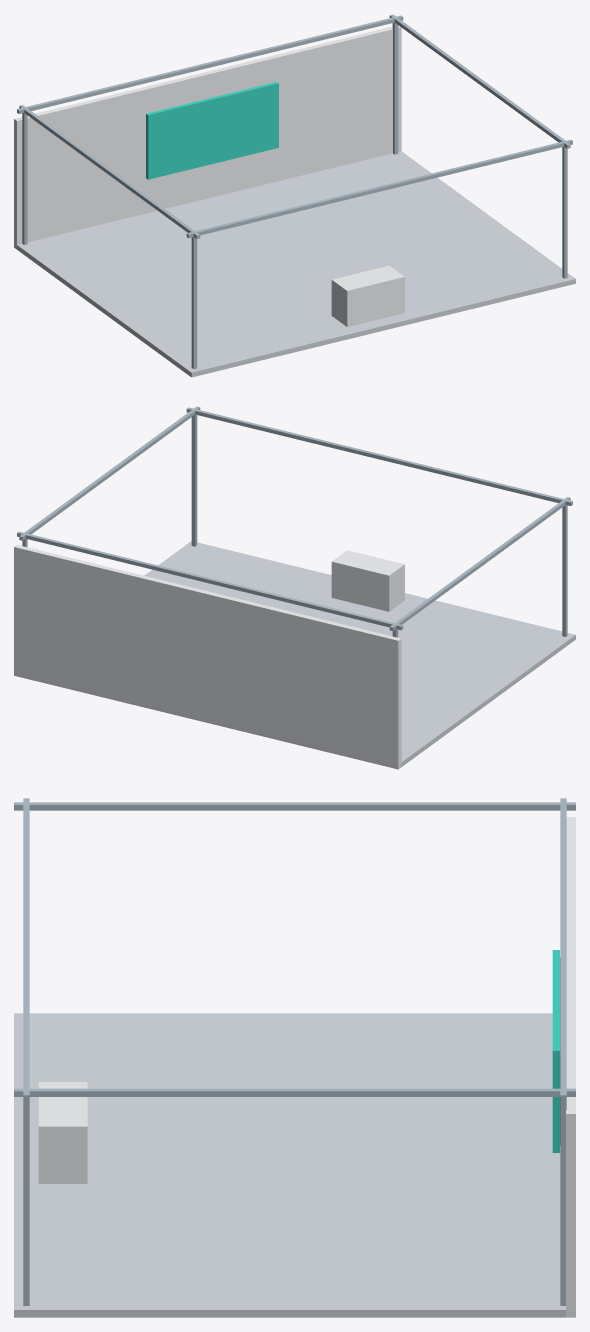
3 views of the same model, one above another, from view 1: azimuth 30°, elevation 25°; view 2: azimuth 150°, elevation 25°; view 3: azimuth 270°, elevation 25° (orthographic). The views are drawn at different scales.
Parts seen in each view (by area): view 1: Exhibition Booth Concept; view 2: Exhibition Booth Concept; view 3: Exhibition Booth Concept.
Boxes of the visible parts, bbox=[...] form: Exhibition Booth Concept: bbox=[14, 14, 575, 377]; Exhibition Booth Concept: bbox=[14, 406, 575, 769]; Exhibition Booth Concept: bbox=[14, 798, 575, 1317].
Bounding box in the file's own units: 10 × 3.49 × 8.
